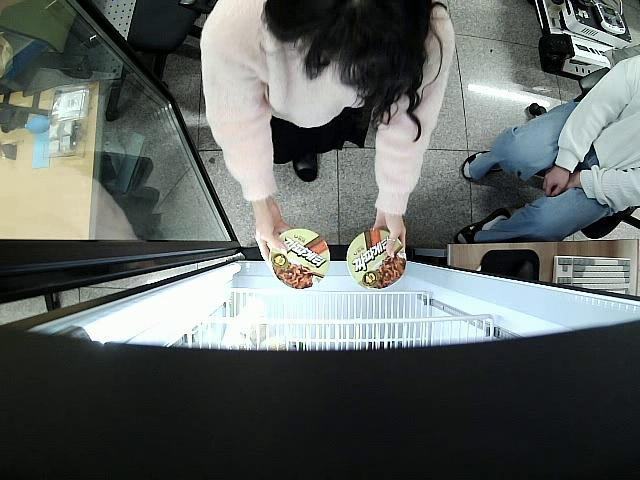03_chapagetti_L: (267, 228, 330, 291), (348, 232, 406, 290)
